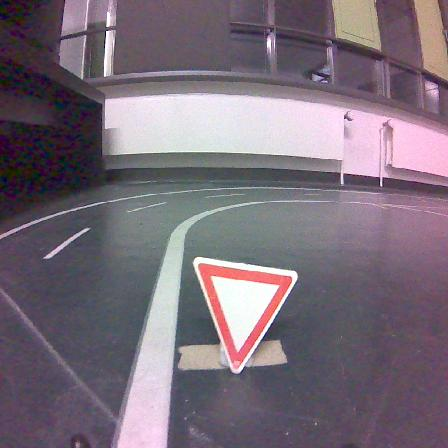GIVE_WAY: (193, 257, 296, 372)
